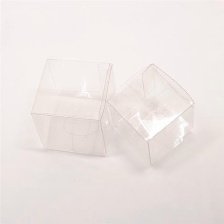plastic_box: (100, 56, 200, 174), (26, 52, 119, 160)
